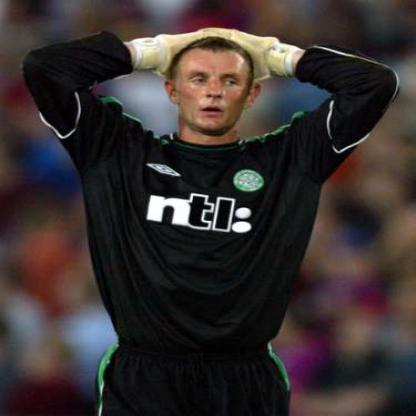face: (175, 38, 256, 132)
